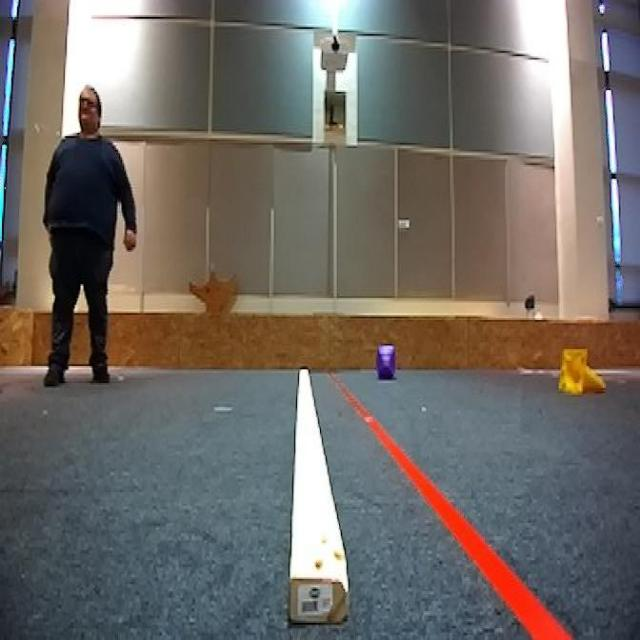frc_cone: (556, 344, 606, 398)
frc_cube: (375, 342, 399, 380)
